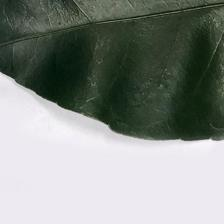healthy: (1, 0, 223, 135)
